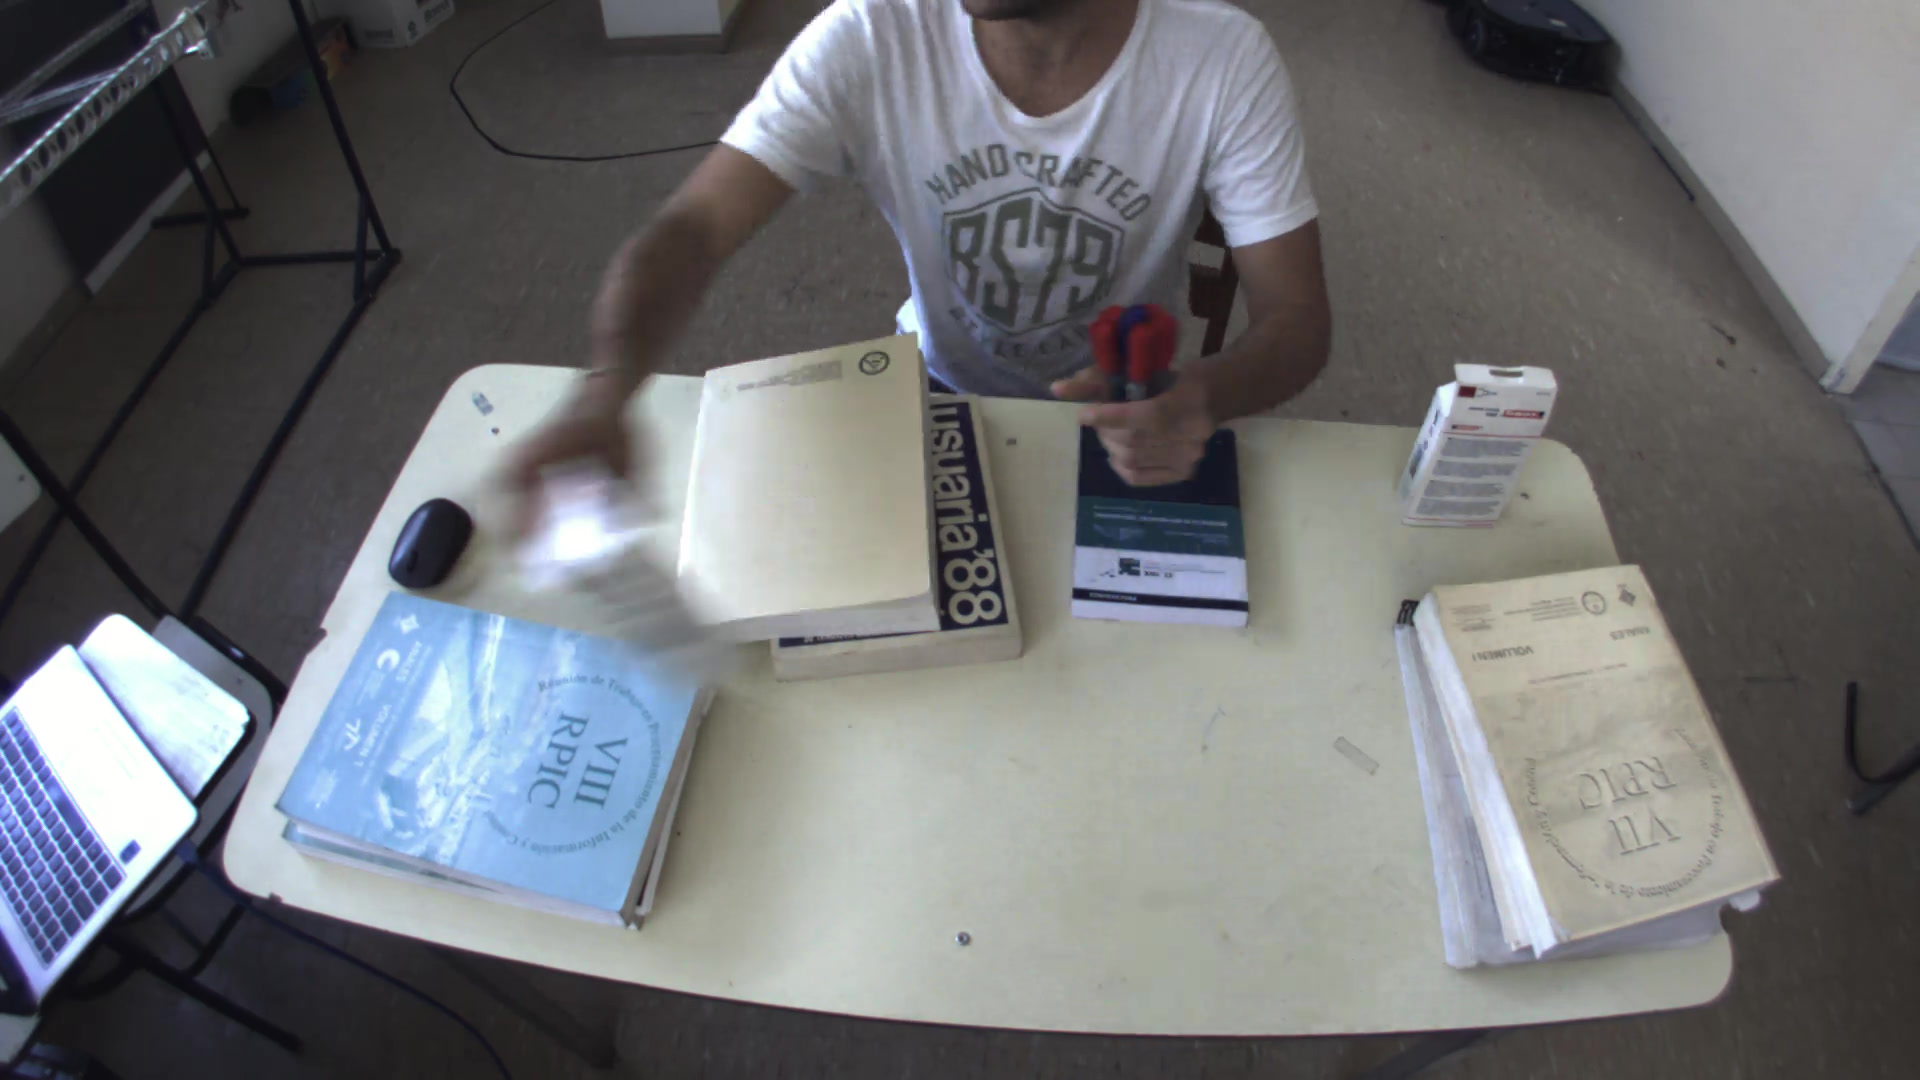hand: (1048, 372, 1233, 488)
